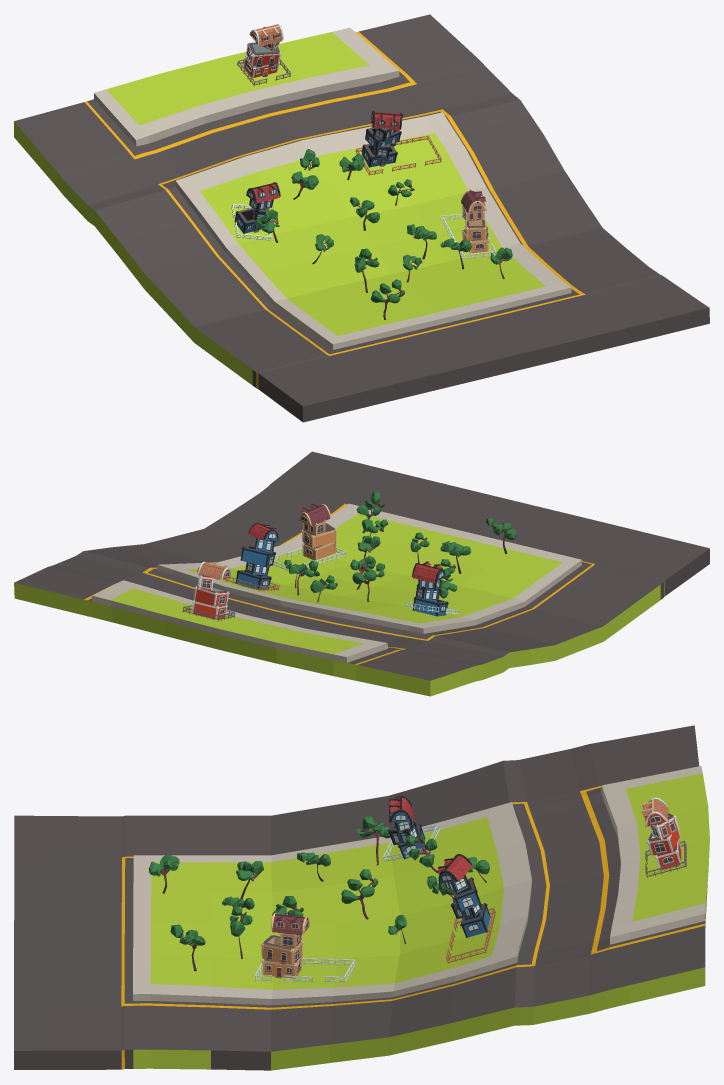
The model's file is Ground_TestHouse.fbx.
3 renders of one model, top to bottom at view 1: azimuth 30°, elevation 25°; view 2: azimuth 150°, elevation 25°; view 3: azimuth 270°, elevation 25°, orthographic. The views are drawn at different scales.
Parts seen in each view (by area): view 1: Ground_Testhouse; view 2: Ground_Testhouse; view 3: Ground_Testhouse.
Part boxes in pixels (x1=…): Ground_Testhouse: x1=14, y1=14, x2=709, y2=422; Ground_Testhouse: x1=14, y1=451, x2=709, y2=696; Ground_Testhouse: x1=14, y1=725, x2=709, y2=1070.
Bounding box in the file's own units: 3520 × 4144 × 1093.
